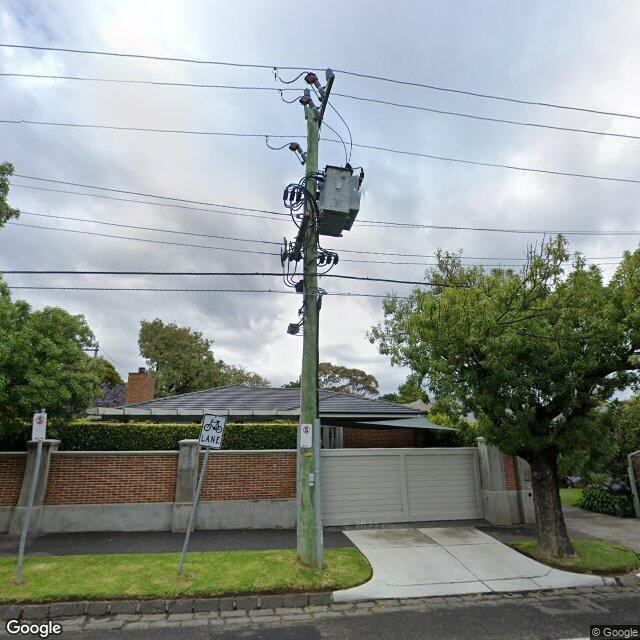HV-transmission: (289, 68, 333, 165)
crossarm: (318, 74, 334, 131), (293, 214, 310, 261)
timber-pole: (296, 106, 324, 570)
transformer: (317, 163, 364, 237)
